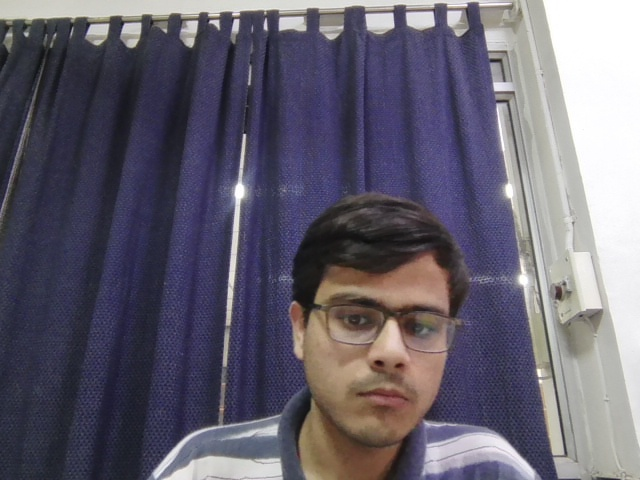face: (289, 194, 465, 450)
